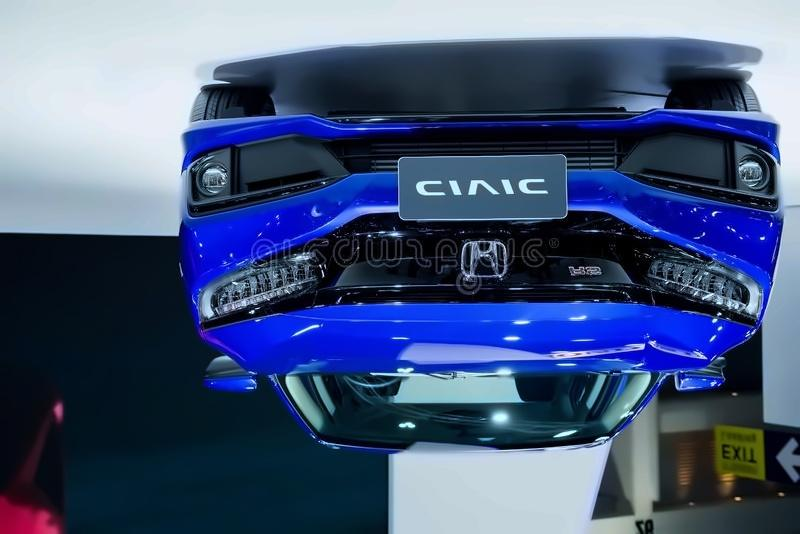Car hood: (196, 297, 760, 375)
Front bumper: (170, 105, 792, 246)
Headlight - -L-: (189, 243, 331, 335)
Headlight - -R-: (641, 248, 767, 330)
Side mirror - -L-: (196, 350, 263, 397)
Side mirror - -R-: (662, 357, 732, 402)
